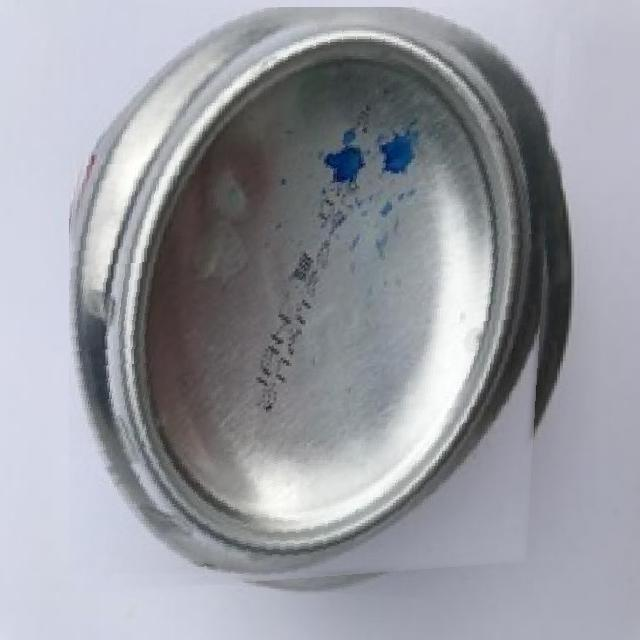recyclable: (70, 7, 562, 598)
